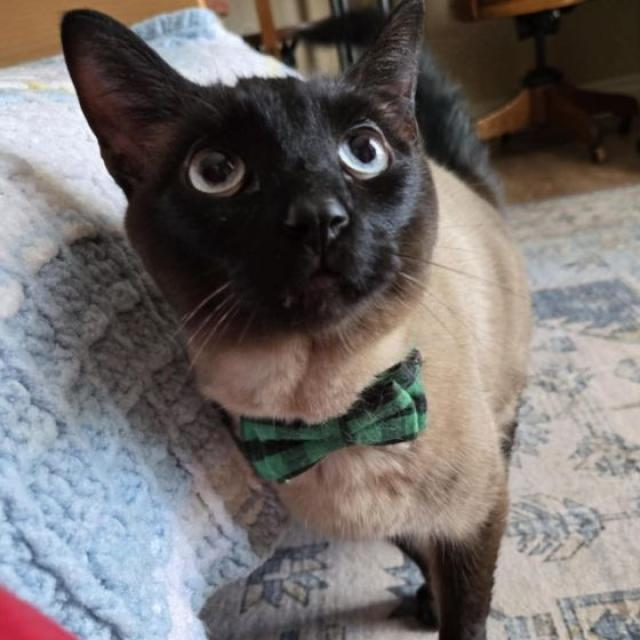siamese_cat: (55, 5, 466, 365)
